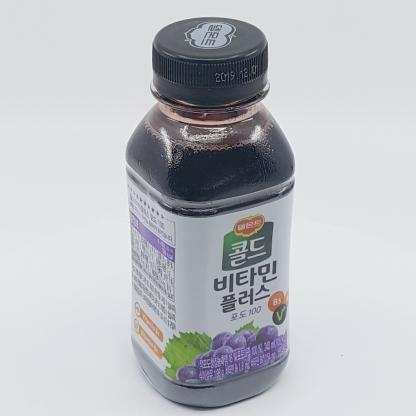---------------240ML: (125, 17, 295, 407)
